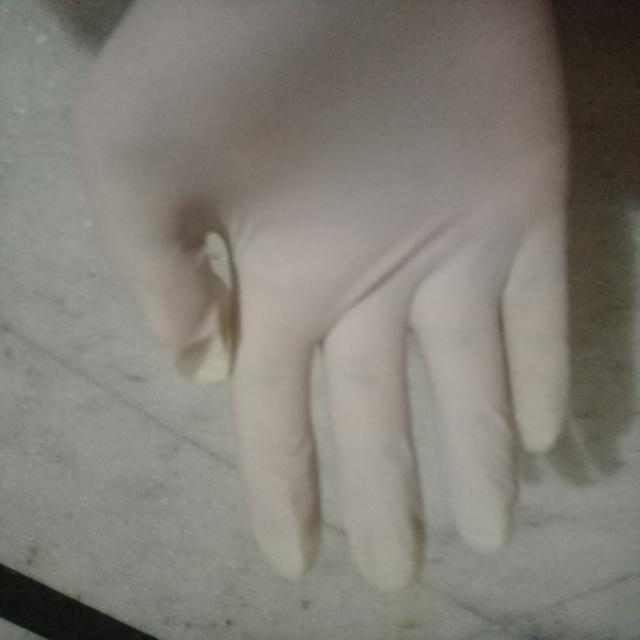gloved_hand: (60, 4, 578, 608)
